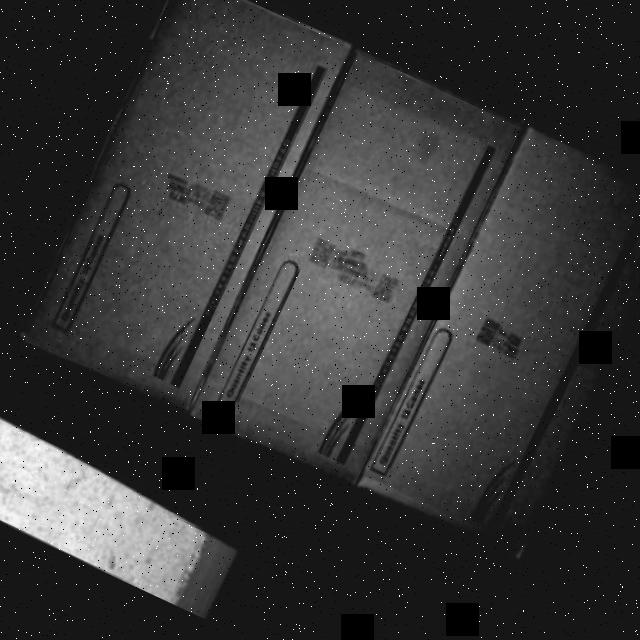box: (186, 39, 530, 483), (8, 0, 359, 415), (359, 126, 640, 553)
